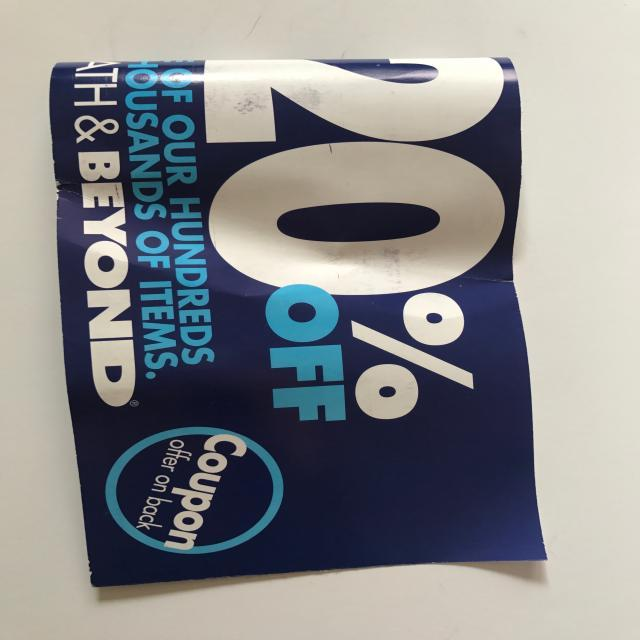paper: (51, 57, 550, 590)
